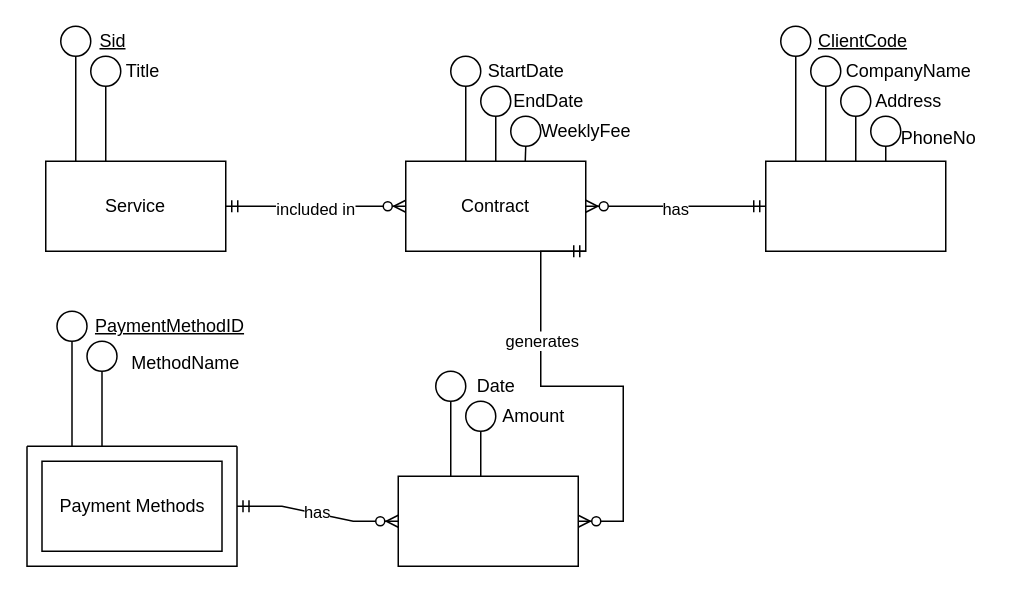
This 1016x593 diagram has some shape labels left out. Here are the shapes that lost their labels. From the top down, the centre of each, then its label:
At [855,205]: "Client".
At [487,520]: "Payment".
